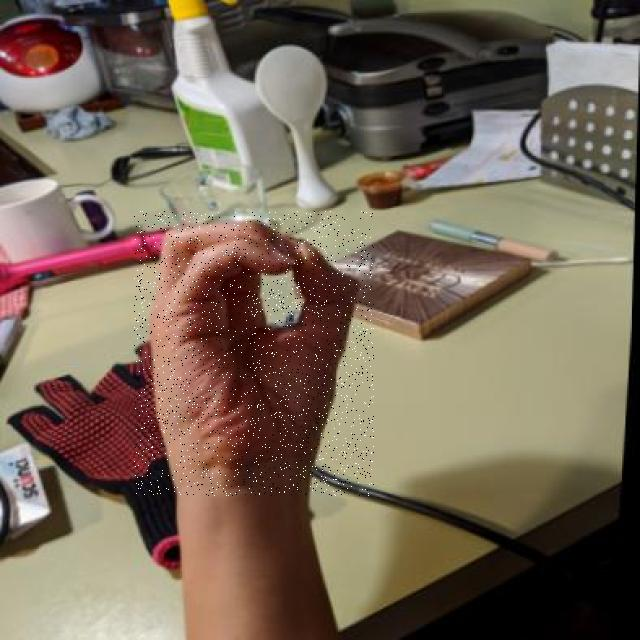O: (134, 211, 374, 496)
